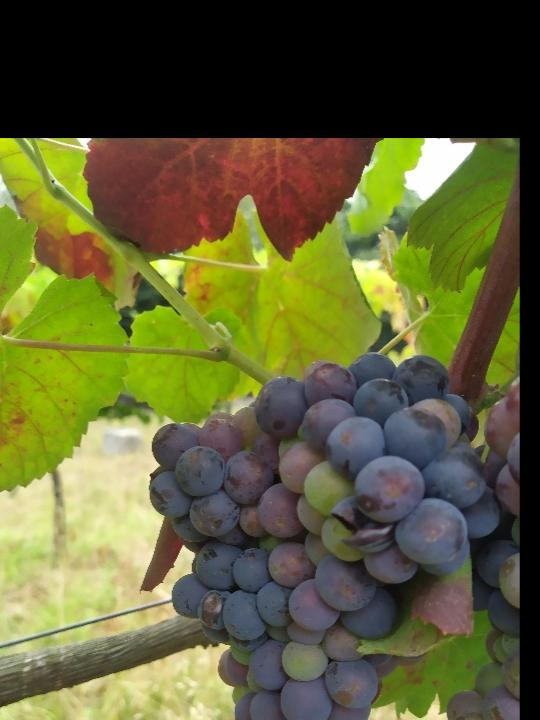grape: (142, 348, 507, 720)
